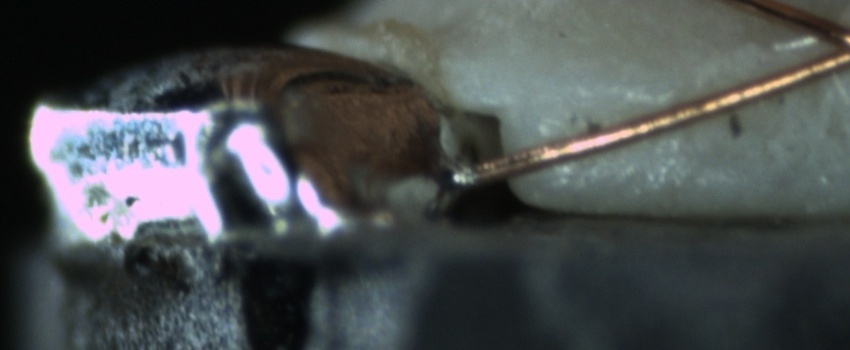CL: (776, 3, 848, 86)
DL: (537, 72, 683, 125)
